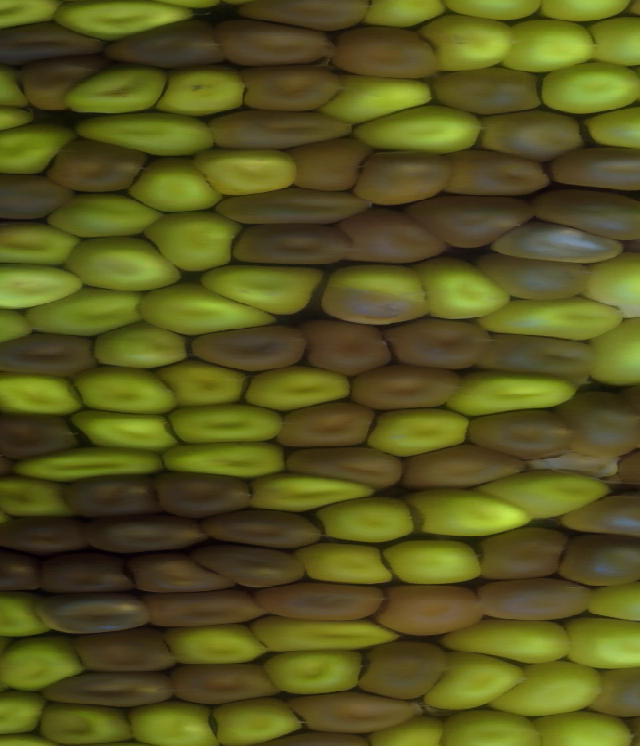fluorescent: (486, 467, 611, 524), (74, 111, 215, 161), (410, 481, 530, 539), (441, 616, 575, 666), (204, 257, 320, 314), (323, 262, 427, 325), (144, 282, 272, 332), (449, 366, 574, 416), (190, 140, 299, 197), (357, 104, 483, 153), (74, 238, 186, 293), (304, 492, 417, 546), (141, 207, 236, 271), (253, 611, 405, 651), (500, 12, 598, 74), (486, 295, 621, 340), (423, 9, 520, 71), (17, 445, 167, 485), (381, 529, 484, 585), (160, 620, 273, 670), (32, 286, 146, 335), (126, 691, 227, 746), (132, 155, 221, 217), (418, 255, 504, 319), (58, 1, 195, 41), (68, 62, 167, 117), (165, 401, 286, 446), (541, 61, 639, 116), (427, 650, 515, 711), (370, 403, 469, 457), (49, 190, 159, 238), (298, 535, 395, 588), (70, 409, 178, 456), (163, 437, 286, 478), (157, 62, 246, 118), (559, 609, 640, 670), (328, 70, 433, 117), (246, 364, 357, 408), (504, 665, 602, 714), (88, 323, 191, 369), (39, 696, 133, 746), (246, 471, 375, 507), (80, 365, 169, 416), (160, 357, 249, 408), (273, 645, 362, 695), (218, 691, 300, 744), (0, 632, 77, 687), (0, 369, 86, 418), (0, 220, 79, 269), (0, 260, 81, 306), (535, 709, 633, 746), (438, 711, 541, 746), (585, 253, 640, 317), (0, 471, 68, 522), (0, 123, 64, 174), (596, 320, 640, 390), (0, 586, 52, 643), (580, 106, 640, 150), (586, 580, 640, 628), (590, 12, 640, 61), (0, 51, 35, 108), (0, 2, 58, 33), (0, 690, 38, 737), (0, 303, 33, 353), (0, 86, 31, 137)
nonfluorescent: (411, 190, 533, 254), (327, 23, 448, 85), (210, 12, 333, 69), (285, 687, 431, 734), (495, 214, 627, 265), (231, 220, 364, 269), (214, 182, 365, 225), (342, 206, 452, 265), (281, 444, 402, 497), (378, 578, 481, 640), (537, 185, 640, 245), (469, 403, 570, 464), (563, 387, 640, 465), (111, 18, 223, 71), (472, 249, 593, 298), (447, 144, 551, 201), (300, 314, 393, 377), (84, 508, 205, 555), (191, 539, 307, 588), (74, 624, 180, 677), (149, 464, 251, 519), (49, 138, 144, 197), (353, 148, 454, 203), (43, 669, 175, 711), (37, 541, 132, 599), (241, 59, 341, 114), (37, 587, 144, 638), (191, 323, 307, 370), (126, 545, 232, 596), (480, 329, 595, 376), (439, 62, 539, 116), (211, 106, 353, 144), (481, 575, 591, 624), (367, 635, 451, 699), (396, 446, 527, 487), (479, 106, 580, 159), (391, 317, 488, 372), (135, 582, 259, 625), (257, 583, 388, 623), (206, 509, 322, 554), (356, 362, 459, 412), (63, 471, 163, 522), (174, 656, 278, 704), (0, 19, 110, 64), (279, 402, 375, 453), (0, 404, 78, 461), (0, 166, 75, 225), (0, 333, 94, 380), (484, 528, 567, 580), (16, 53, 90, 111), (562, 528, 640, 583), (554, 144, 640, 193), (293, 137, 368, 191), (0, 512, 86, 557), (573, 485, 640, 538), (593, 661, 640, 719), (0, 543, 42, 599)
